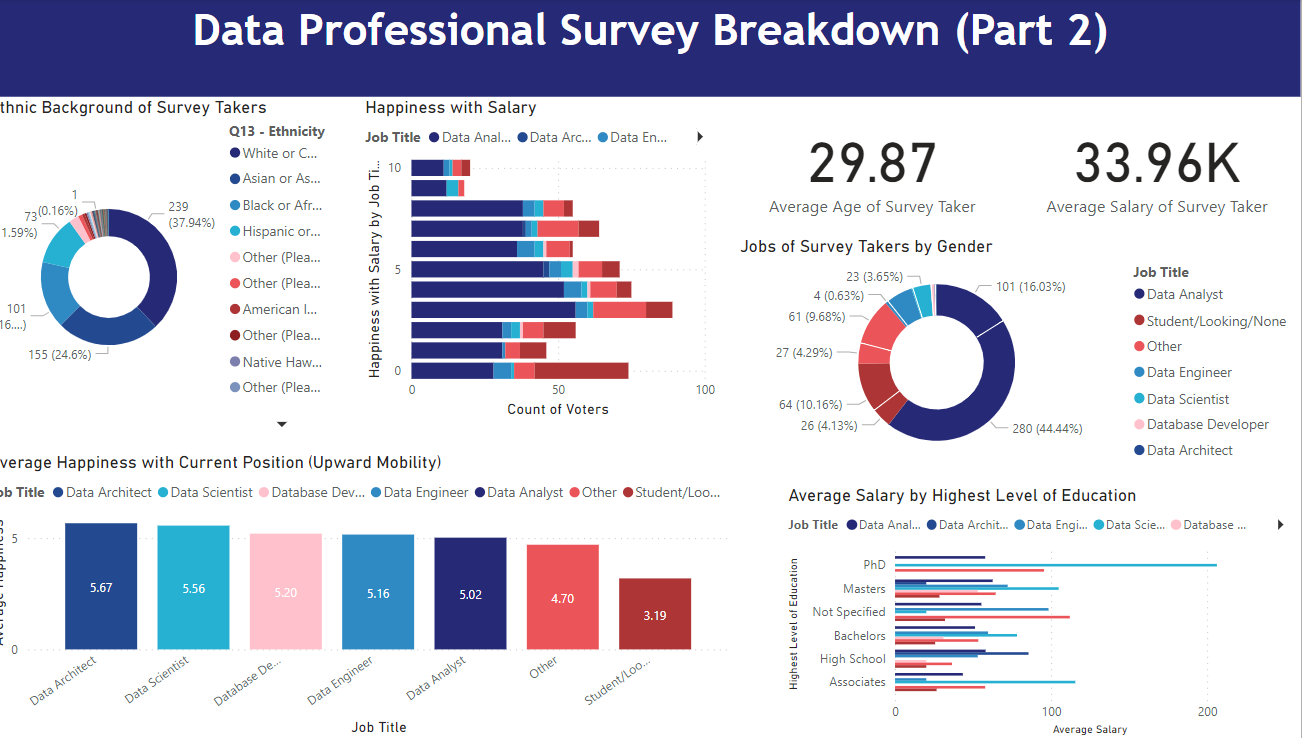

The page's visual inventory and layout, read from the dashboard file:
{"tool":"powerbi","page":{"name":"Page 2","canvas":[1280,720],"ordinal":1},"visuals":[{"type":"columnChart","title":"Average Happiness with Current Position (Upward Mobility)","fields":{"Category":["Data Professional Survey.Q1 - Which Title Best Fits your Current Role?.1"],"Y":["Avg(Data Professional Survey.Q6 - How Happy are you in your Current Position with the following? (Upward Mobility))"],"Series":["Data Professional Survey.Q1 - Which Title Best Fits your Current Role?.1"]},"box":[0,440.3,729.9,279.9],"z":0},{"type":"textbox","box":[16,0,1264,94.9],"z":1000},{"type":"donutChart","title":"Jobs of Survey Takers by Gender","fields":{"Category":["Data Professional Survey.Q1 - Which Title Best Fits your Current Role?.1","Data Professional Survey.Q9 - Male/Female?"],"Y":["CountNonNull(Data Professional Survey.Q9 - Male/Female?)"],"Series":["Data Professional Survey.Q9 - Male/Female?"]},"box":[729.9,230.3,550.1,227.4],"z":2000},{"type":"donutChart","title":"Ethnic Background of Survey Takers","fields":{"Category":["Data Professional Survey.Q13 - Ethnicity"],"Series":["Data Professional Survey.Q13 - Ethnicity"],"Y":["CountNonNull(Data Professional Survey.Q13 - Ethnicity)"]},"box":[0,95.2,344.1,331.4],"z":3000},{"type":"barChart","title":"Happiness with Salary","fields":{"Category":["Data Professional Survey.Q6 - How Happy are you in your Current Position with the following? (Salary)"],"Series":["Data Professional Survey.Q1 - Which Title Best Fits your Current Role?.1"],"Y":["CountNonNull(Data Professional Survey.Unique ID)"]},"box":[365.4,95.2,349.9,315.9],"z":4000},{"type":"card","fields":{"Values":["Sum(Data Professional Survey.Average Salary)"]},"box":[1000.4,94.9,279.6,134.8],"z":5000},{"type":"card","fields":{"Values":["Avg(Data Professional Survey.Q10 - Current Age)"]},"box":[715.3,95.2,296.4,135.1],"z":6000},{"type":"clusteredBarChart","title":"Average Salary by Highest Level of Education","fields":{"Category":["Data Professional Survey.Q12 - Highest Level of Education"],"Series":["Data Professional Survey.Q1 - Which Title Best Fits your Current Role?.1"],"Y":["Avg(Data Professional Survey.Average Salary)"]},"box":[776.6,472.3,503.4,247.8],"z":7000}]}

Visuals, with their boxes in screenshot pixels (x1, y1, x2, y2), scaled from the page's 1280x720 canvas onto the 1302x738 screenshot:
"Average Happiness with Current Position (Upward Mobility)" columnChart: <region>0, 451, 742, 737</region>
textbox: <region>16, 0, 1301, 97</region>
"Jobs of Survey Takers by Gender" donutChart: <region>742, 236, 1301, 469</region>
"Ethnic Background of Survey Takers" donutChart: <region>0, 98, 350, 437</region>
"Happiness with Salary" barChart: <region>372, 98, 728, 421</region>
card - Sum(Data Professional Survey.Average Salary): <region>1018, 97, 1301, 235</region>
card - Avg(Data Professional Survey.Q10 - Current Age): <region>728, 98, 1029, 236</region>
"Average Salary by Highest Level of Education" clusteredBarChart: <region>790, 484, 1301, 737</region>
